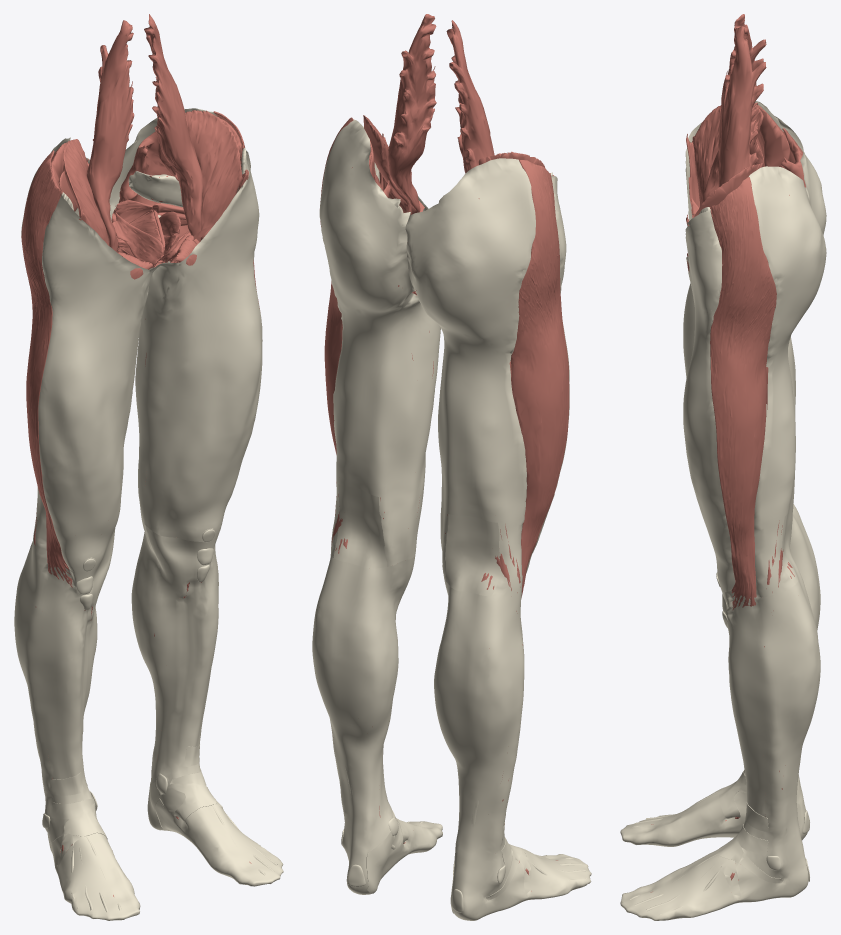
Rendered from muscles-pelvis-leg-foot.glb.
The picture shows the model from 3 angles, left to right: view 1: azimuth 30°, elevation 25°; view 2: azimuth 150°, elevation 25°; view 3: azimuth 270°, elevation 25°; orthographic projection. The views are drawn at different scales.
Visible parts, largest first — view 1: Fascia lata.l.001, Fascia lata.r.001, Crural fascia.l.001, Crural fascia.r.001, Iliotibial tract.r.001, Psoas major.r.001, Psoas major.l.001, Iliacus muscle.l.001, Iliacus muscle.r.001, Gluteus maximus muscle.l.001, Piriformis fascia.l.001, Pubococcygeus muscle.l.001 (+6 smaller); view 2: Fascia lata.r.001, Fascia lata.l.001, Crural fascia.r.001, Crural fascia.l.001, Iliotibial tract.r.001, Psoas major.l.001, Popliteal fascia.r.001, Popliteal fascia.l.001, Psoas major.r.001, Iliotibial tract.l.001, Iliacus muscle.l.001, Flexor retinaculum of ankle.l.001; view 3: Fascia lata.l.001, Crural fascia.l.001, Iliotibial tract.l.001, Crural fascia.r.001, Psoas major.l.001, Fascia lata.r.001, Iliacus muscle.r.001, Psoas major.r.001, Gluteus medius muscle.r.001, Superior fibular retinaculum.l.001, Iliacus muscle.l.001, Popliteal fascia.l.001 (+4 smaller).
Boxes of the visible parts, x1,y1,x2,y2 form: Fascia lata.l.001: (109, 108, 262, 542); Fascia lata.r.001: (21, 137, 161, 573); Crural fascia.l.001: (131, 517, 283, 886); Crural fascia.r.001: (14, 542, 140, 920); Iliotibial tract.r.001: (21, 150, 72, 587); Psoas major.r.001: (86, 20, 134, 251); Psoas major.l.001: (144, 14, 202, 241); Iliacus muscle.l.001: (185, 110, 242, 240); Iliacus muscle.r.001: (63, 139, 109, 245); Gluteus maximus muscle.l.001: (111, 131, 188, 237); Piriformis fascia.l.001: (128, 171, 182, 207); Pubococcygeus muscle.l.001: (112, 212, 163, 266); Fascia lata.r.001: (405, 158, 569, 597); Fascia lata.l.001: (319, 119, 440, 566); Crural fascia.r.001: (434, 579, 591, 920); Crural fascia.l.001: (312, 554, 442, 894); Iliotibial tract.r.001: (510, 160, 569, 597); Psoas major.l.001: (388, 14, 436, 214); Popliteal fascia.r.001: (445, 514, 500, 596); Popliteal fascia.l.001: (333, 484, 387, 568); Psoas major.r.001: (446, 20, 494, 173); Iliotibial tract.l.001: (319, 117, 353, 454); Iliacus muscle.l.001: (363, 115, 411, 214); Flexor retinaculum of ankle.l.001: (366, 830, 395, 893); Fascia lata.l.001: (683, 166, 826, 597); Crural fascia.l.001: (620, 570, 820, 920); Iliotibial tract.l.001: (710, 177, 776, 610); Crural fascia.r.001: (620, 512, 820, 846); Psoas major.l.001: (718, 26, 766, 186); Fascia lata.r.001: (683, 101, 826, 416); Iliacus muscle.r.001: (693, 105, 763, 206); Psoas major.r.001: (702, 14, 766, 202); Gluteus medius muscle.r.001: (757, 105, 789, 167); Superior fibular retinaculum.l.001: (717, 833, 783, 883); Iliacus muscle.l.001: (694, 163, 763, 216); Popliteal fascia.l.001: (782, 497, 798, 583).
Size of the model in its own units: 0.3224 by 1.15 by 0.2518.
